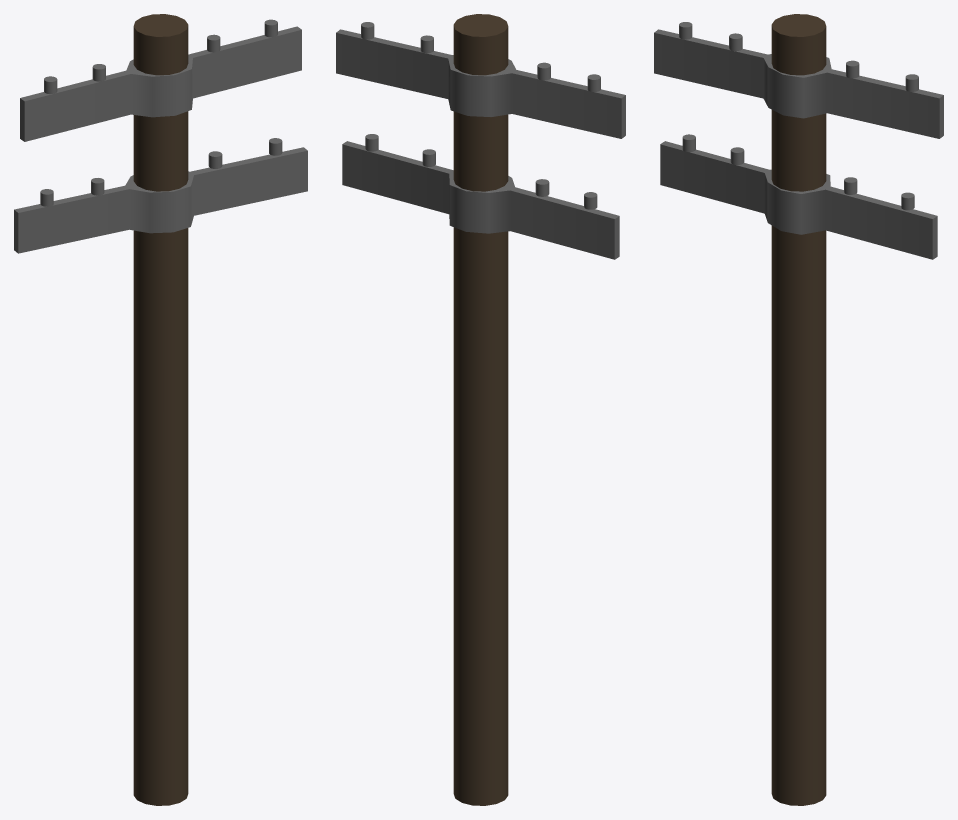
The model's file is blockout_StreetPost.fbx.
3 renders of one model, left to right at view 1: azimuth 30°, elevation 25°; view 2: azimuth 150°, elevation 25°; view 3: azimuth 330°, elevation 25°, orthographic.
Parts seen in each view (by area): view 1: Post, Plate1, Plate; view 2: Post, Plate, Plate1; view 3: Post, Plate, Plate1.
Part boxes in pixels (bbox=[...]): Post: bbox=[133, 14, 188, 805]; Plate1: bbox=[14, 138, 307, 253]; Plate: bbox=[20, 19, 301, 141]; Post: bbox=[453, 14, 508, 805]; Plate: bbox=[336, 22, 625, 138]; Plate1: bbox=[342, 134, 619, 259]; Post: bbox=[771, 14, 826, 805]; Plate: bbox=[654, 22, 943, 138]; Plate1: bbox=[660, 134, 937, 259].
Size of the model in its own units: 2.55 by 6.66 by 0.4735.
